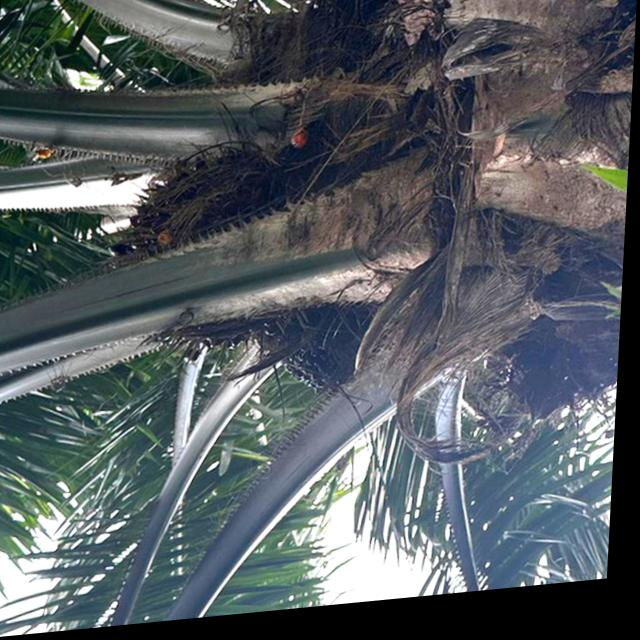unripe: (105, 146, 337, 370)
